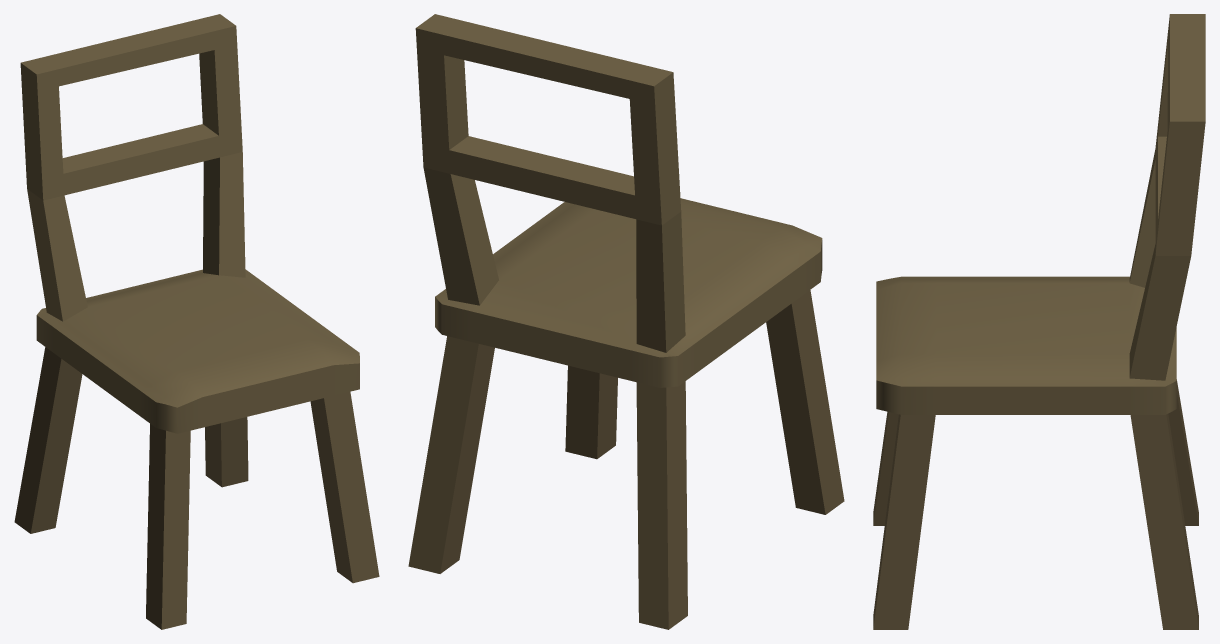
The model's file is Dinning_chair.fbx.
3 views of the same model, side by side, from view 1: azimuth 30°, elevation 25°; view 2: azimuth 150°, elevation 25°; view 3: azimuth 270°, elevation 25° (orthographic). The views are drawn at different scales.
Visible parts, largest first — view 1: pCube1; view 2: pCube1; view 3: pCube1.
Boxes of the visible parts, box(x1,y1,x2,y2) form: pCube1: box(14, 14, 379, 629); pCube1: box(408, 14, 844, 629); pCube1: box(873, 14, 1205, 629).
Bounding box in the file's own units: 11.21 × 22.37 × 13.39.
